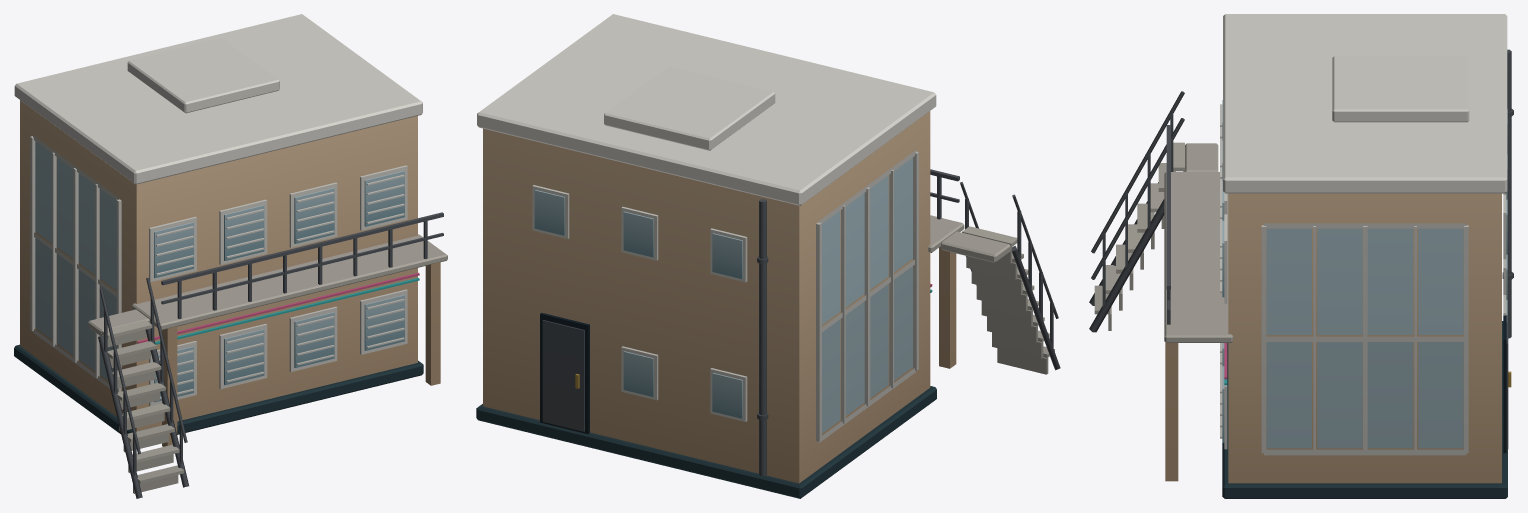
Rendered from deco-apartment-walkup.glb.
3 views of the same model, side by side, from view 1: azimuth 30°, elevation 25°; view 2: azimuth 150°, elevation 25°; view 3: azimuth 270°, elevation 25° (orthographic). The views are drawn at different scales.
Parts seen in each view (by area): view 1: deco_apartment_walkup; view 2: deco_apartment_walkup; view 3: deco_apartment_walkup.
Boxes of the visible parts, x1,y1,x2,y2 form: deco_apartment_walkup: (14,14,447,498); deco_apartment_walkup: (476,14,1060,498); deco_apartment_walkup: (1089,14,1513,498).
Bounding box in the file's own units: 7.82 × 6.21 × 7.14.
